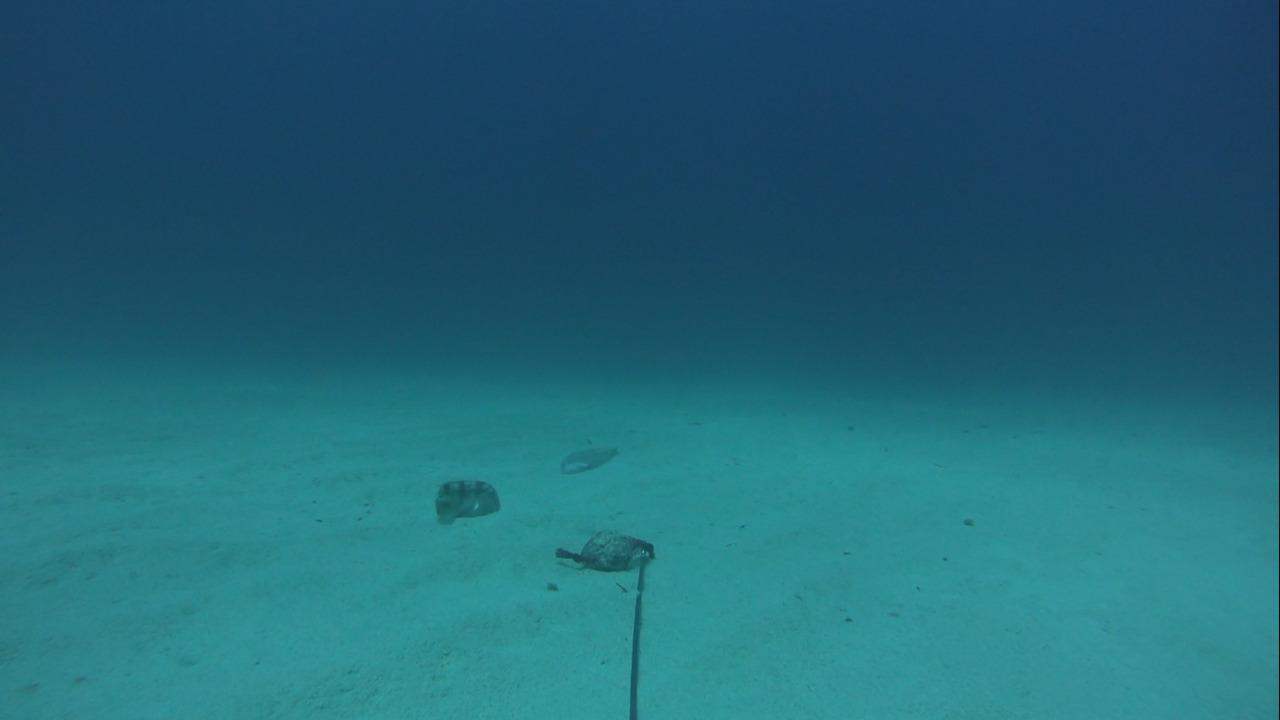raor: (430, 476, 503, 524), (558, 441, 623, 479)
